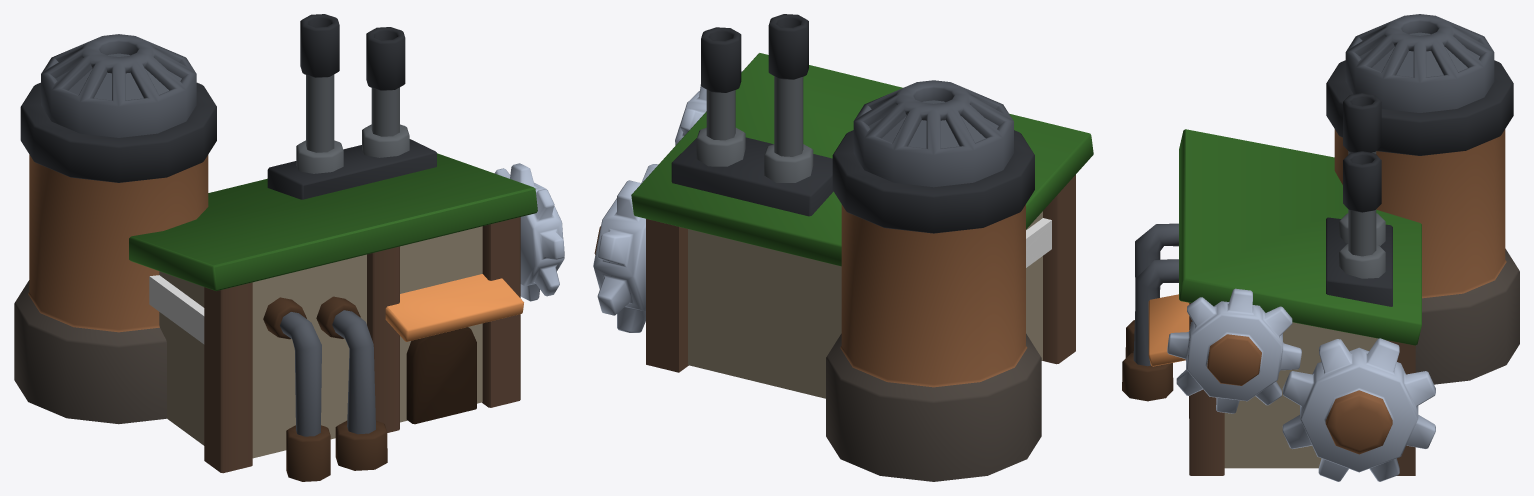
The model's file is Workshop.fbx.
3 views of the same model, side by side, from view 1: azimuth 30°, elevation 25°; view 2: azimuth 150°, elevation 25°; view 3: azimuth 270°, elevation 25° (orthographic). The views are drawn at different scales.
Visible parts, largest first — view 1: Cylinder.287, Cube.1346, Cube.1345, Cube.1348, Plane.082, Plane.081, Cube.1347, Cube.1352, Cylinder.288, Cube.1350, Cylinder.289, Cube.1353 (+2 smaller); view 2: Cylinder.287, Cube.1346, Cube.1345, Cube.1353, Cylinder.288, Cube.1349, Cylinder.290, Cylinder.289, Cube.1348, Cube.1351, Cylinder.291; view 3: Cylinder.287, Cube.1346, Cylinder.290, Cylinder.291, Cube.1345, Cylinder.289, Plane.081, Cube.1353, Cube.1348, Cylinder.288, Cube.1352, Plane.082 (+1 smaller).
Part boxes in pixels (left/top/right/bottom): Cylinder.287: left=14, top=34, right=216, bottom=424; Cube.1346: left=129, top=153, right=537, bottom=291; Cube.1345: left=159, top=226, right=482, bottom=458; Cube.1348: left=204, top=217, right=520, bottom=473; Plane.082: left=263, top=297, right=330, bottom=481; Plane.081: left=316, top=296, right=387, bottom=470; Cube.1347: left=406, top=327, right=476, bottom=424; Cube.1352: left=385, top=274, right=523, bottom=341; Cylinder.288: left=296, top=14, right=343, bottom=173; Cube.1350: left=367, top=246, right=399, bottom=432; Cylinder.289: left=362, top=27, right=409, bottom=157; Cube.1353: left=267, top=139, right=436, bottom=199; Cylinder.287: left=826, top=80, right=1041, bottom=481; Cube.1346: left=631, top=53, right=1093, bottom=266; Cube.1345: left=688, top=211, right=1042, bottom=398; Cube.1353: left=671, top=137, right=833, bottom=216; Cylinder.288: left=764, top=14, right=813, bottom=182; Cube.1349: left=646, top=219, right=688, bottom=372; Cylinder.290: left=593, top=164, right=658, bottom=332; Cylinder.289: left=696, top=27, right=745, bottom=166; Cube.1348: left=1042, top=174, right=1075, bottom=364; Cube.1351: left=1026, top=218, right=1051, bottom=267; Cylinder.291: left=675, top=71, right=741, bottom=145; Cylinder.287: left=1326, top=14, right=1519, bottom=384; Cube.1346: left=1179, top=129, right=1421, bottom=345; Cylinder.290: left=1282, top=338, right=1435, bottom=481; Cylinder.291: left=1167, top=288, right=1301, bottom=413; Cube.1345: left=1224, top=322, right=1377, bottom=468; Cylinder.289: left=1339, top=151, right=1385, bottom=278; Plane.081: left=1122, top=259, right=1178, bottom=401; Cube.1353: left=1326, top=217, right=1392, bottom=306; Cube.1348: left=1189, top=303, right=1224, bottom=475; Cylinder.288: left=1339, top=93, right=1385, bottom=245; Cube.1352: left=1148, top=294, right=1189, bottom=366; Plane.082: left=1125, top=223, right=1178, bottom=357.
Size of the model in its own units: 145 by 107 by 119.
